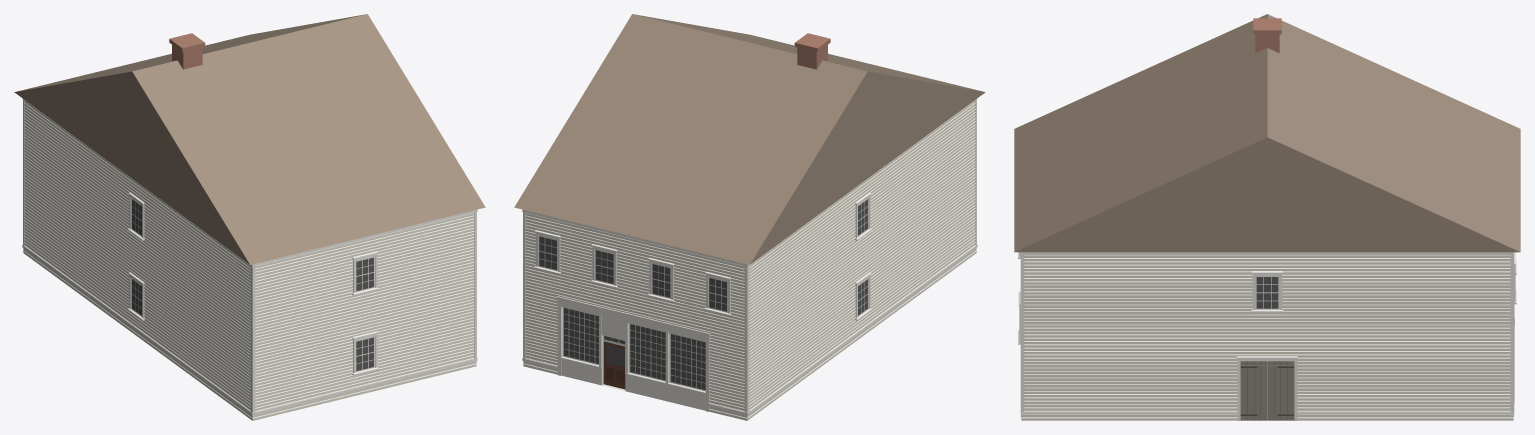
The model's file is recon_1835_north_c4_067__inferred_1835.glb.
3 renders of one model, left to right at view 1: azimuth 30°, elevation 25°; view 2: azimuth 150°, elevation 25°; view 3: azimuth 270°, elevation 25°, orthographic. The views are drawn at different scales.
Parts seen in each view (by area): view 1: recon_1835_north_c4_067__inferred_1835; view 2: recon_1835_north_c4_067__inferred_1835; view 3: recon_1835_north_c4_067__inferred_1835.
Boxes of the visible parts, x1=… form: recon_1835_north_c4_067__inferred_1835: x1=14, y1=14, x2=485, y2=420; recon_1835_north_c4_067__inferred_1835: x1=514, y1=14, x2=985, y2=420; recon_1835_north_c4_067__inferred_1835: x1=1014, y1=14, x2=1520, y2=420.
Size of the model in its own units: 10.12 by 11.67 by 17.57.
